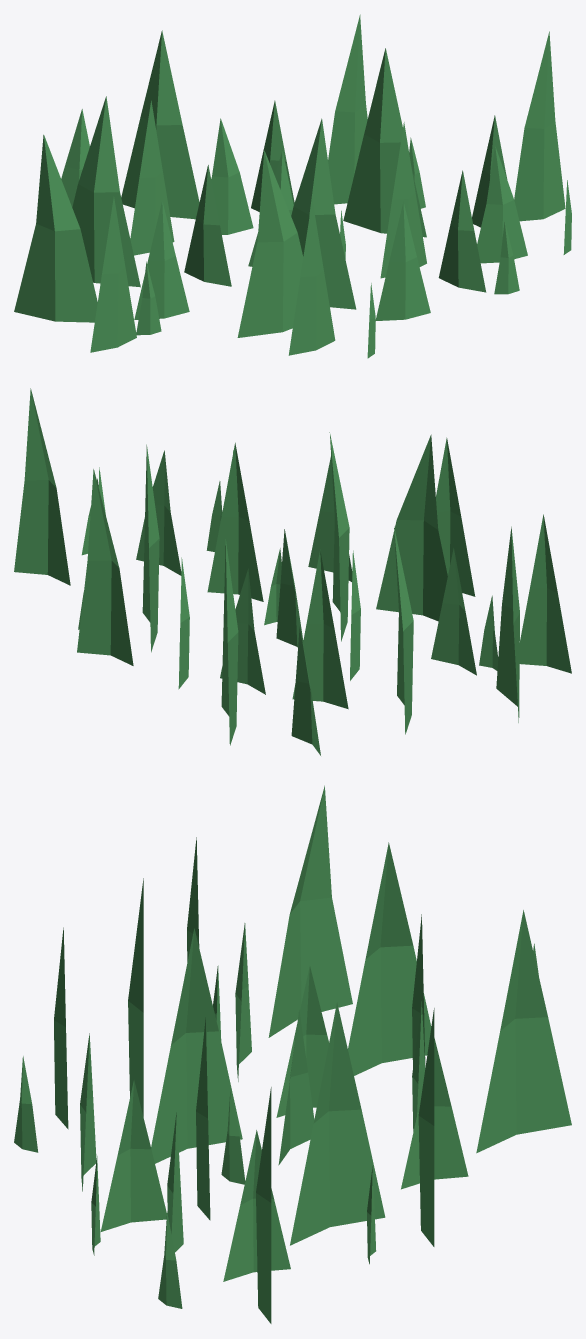
File: fbxFIXED_grass_4PolypBlade.fbx
3 views of the same model, one above another, from view 1: azimuth 30°, elevation 25°; view 2: azimuth 150°, elevation 25°; view 3: azimuth 270°, elevation 25° (orthographic). The views are drawn at different scales.
Visible parts, largest first — view 1: pPlane170; view 2: pPlane170; view 3: pPlane170.
Boxes of the visible parts, left/top/right/bottom form: pPlane170: left=14, top=14, right=571, bottom=358; pPlane170: left=14, top=388, right=571, bottom=755; pPlane170: left=14, top=785, right=571, bottom=1323.
Size of the model in its own units: 2.99 by 1.01 by 2.2.
